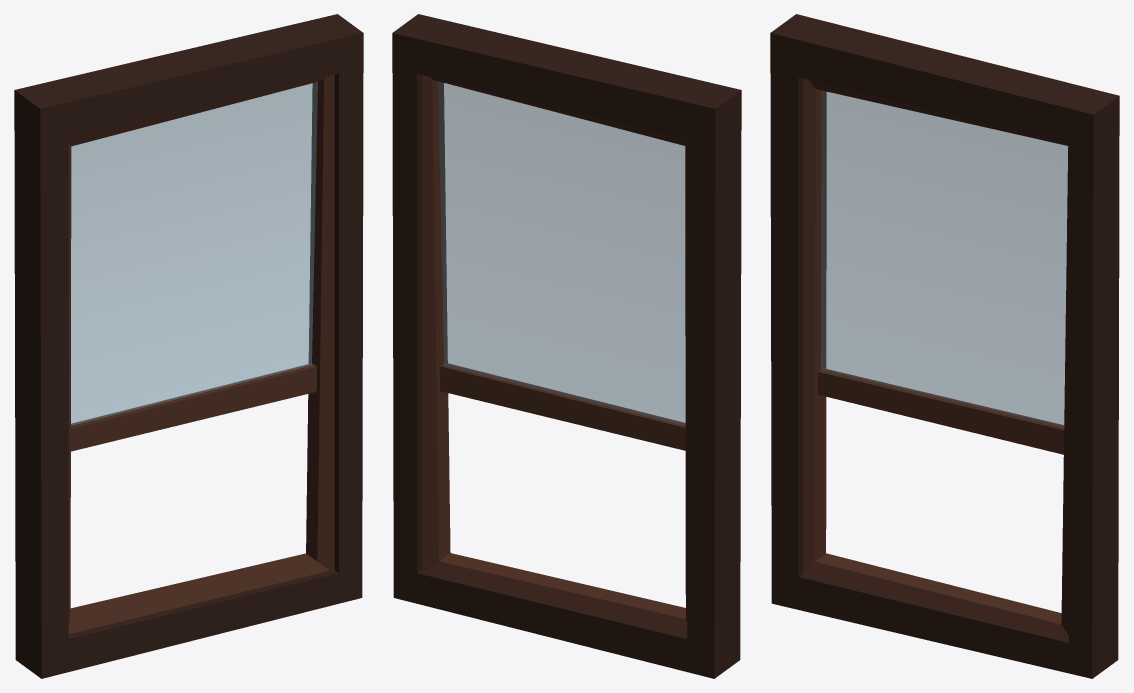
File: Window 2x4 B Open.glb
The picture shows the model from 3 angles, left to right: view 1: azimuth 30°, elevation 25°; view 2: azimuth 150°, elevation 25°; view 3: azimuth 330°, elevation 25°; orthographic projection.
Visible parts, largest first — view 1: Window 2x4 B Open; view 2: Window 2x4 B Open; view 3: Window 2x4 B Open.
Part boxes in pixels (<box>): Window 2x4 B Open: <box>14,14,363,678</box>; Window 2x4 B Open: <box>392,14,741,678</box>; Window 2x4 B Open: <box>770,14,1119,678</box>.
Size of the model in its own units: 1.15 by 1.94 by 0.16.
Materials: 2 (2 with a texture image).
